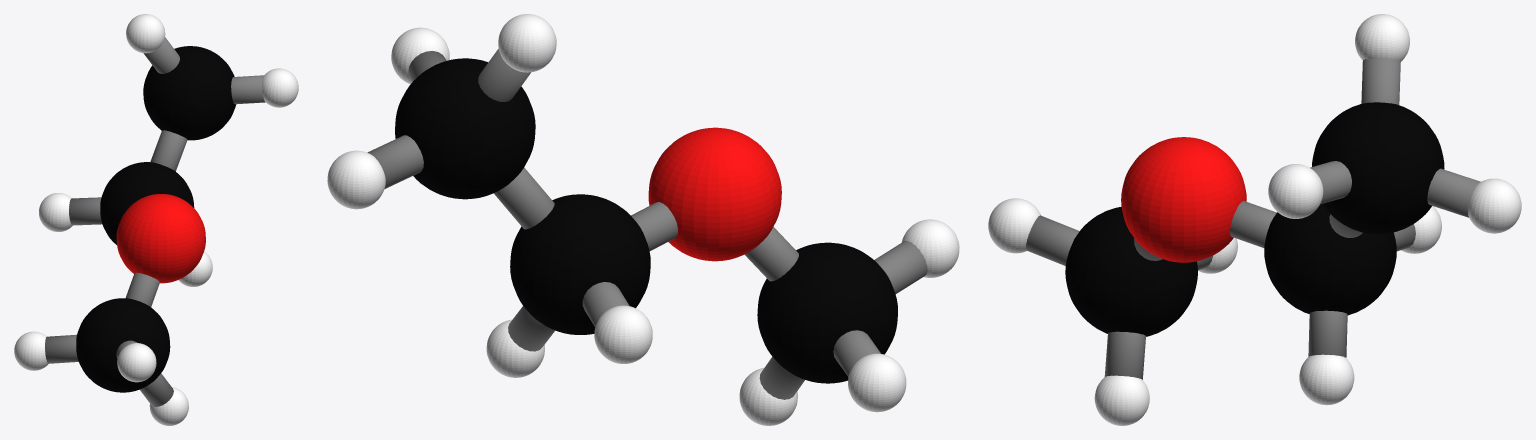
The model's file is ETILMETILETER.obj.
The picture shows the model from 3 angles, left to right: view 1: azimuth 30°, elevation 25°; view 2: azimuth 150°, elevation 25°; view 3: azimuth 270°, elevation 25°; orthographic projection. The views are drawn at different scales.
Visible parts, largest first — view 1: Carbon_ball_Sphere.001, Hydrogen_ball_Sphere, Oxygen_ball_Sphere.002, Stick_Cylinder.006_Cylinder.006, Stick_Cylinder.010_Cylinder.010, Stick_Cylinder.002_Cylinder.002, Stick_Cylinder.001_Cylinder.001, Stick_Cylinder.005_Cylinder.005, Stick_Cylinder.009_Cylinder.009, Stick_Cylinder.004_Cylinder.004; view 2: Carbon_ball_Sphere.001, Hydrogen_ball_Sphere, Oxygen_ball_Sphere.002, Stick_Cylinder.006_Cylinder.006, Stick_Cylinder_Cylinder, Stick_Cylinder.003_Cylinder.003, Stick_Cylinder.005_Cylinder.005, Stick_Cylinder.009_Cylinder.009, Stick_Cylinder.008_Cylinder.008, Stick_Cylinder.007_Cylinder.007, Stick_Cylinder.002_Cylinder.002, Stick_Cylinder.001_Cylinder.001 (+2 smaller); view 3: Carbon_ball_Sphere.001, Hydrogen_ball_Sphere, Oxygen_ball_Sphere.002, Stick_Cylinder.009_Cylinder.009, Stick_Cylinder.004_Cylinder.004, Stick_Cylinder.007_Cylinder.007, Stick_Cylinder.003_Cylinder.003, Stick_Cylinder_Cylinder, Stick_Cylinder.008_Cylinder.008, Stick_Cylinder.010_Cylinder.010.
Boxes of the visible parts, left/top/right/bottom form: Carbon_ball_Sphere.001: left=76, top=46, right=236, bottom=392; Hydrogen_ball_Sphere: left=14, top=14, right=298, bottom=425; Oxygen_ball_Sphere.002: left=116, top=194, right=205, bottom=283; Stick_Cylinder.006_Cylinder.006: left=150, top=130, right=187, bottom=171; Stick_Cylinder.010_Cylinder.010: left=231, top=75, right=265, bottom=104; Stick_Cylinder.002_Cylinder.002: left=45, top=334, right=78, bottom=363; Stick_Cylinder.001_Cylinder.001: left=69, top=197, right=101, bottom=225; Stick_Cylinder.005_Cylinder.005: left=125, top=272, right=159, bottom=306; Stick_Cylinder.009_Cylinder.009: left=143, top=37, right=179, bottom=73; Stick_Cylinder.004_Cylinder.004: left=140, top=373, right=173, bottom=406; Carbon_ball_Sphere.001: left=395, top=58, right=897, bottom=383; Hydrogen_ball_Sphere: left=327, top=14, right=959, bottom=425; Oxygen_ball_Sphere.002: left=648, top=127, right=781, bottom=261; Stick_Cylinder.006_Cylinder.006: left=494, top=167, right=554, bottom=229; Stick_Cylinder_Cylinder: left=367, top=135, right=423, bottom=188; Stick_Cylinder.003_Cylinder.003: left=874, top=241, right=927, bottom=293; Stick_Cylinder.005_Cylinder.005: left=744, top=227, right=798, bottom=281; Stick_Cylinder.009_Cylinder.009: left=478, top=49, right=530, bottom=101; Stick_Cylinder.008_Cylinder.008: left=631, top=202, right=677, bottom=250; Stick_Cylinder.007_Cylinder.007: left=508, top=306, right=555, bottom=351; Stick_Cylinder.002_Cylinder.002: left=833, top=330, right=880, bottom=376; Stick_Cylinder.001_Cylinder.001: left=582, top=282, right=629, bottom=326; Carbon_ball_Sphere.001: left=1065, top=102, right=1444, bottom=336; Hydrogen_ball_Sphere: left=988, top=14, right=1521, bottom=425; Oxygen_ball_Sphere.002: left=1121, top=137, right=1246, bottom=262; Stick_Cylinder.009_Cylinder.009: left=1361, top=58, right=1400, bottom=104; Stick_Cylinder.004_Cylinder.004: left=1104, top=331, right=1145, bottom=379; Stick_Cylinder.007_Cylinder.007: left=1308, top=310, right=1347, bottom=357; Stick_Cylinder.003_Cylinder.003: left=1025, top=215, right=1079, bottom=265; Stick_Cylinder_Cylinder: left=1427, top=168, right=1480, bottom=217; Stick_Cylinder.008_Cylinder.008: left=1230, top=201, right=1276, bottom=247; Stick_Cylinder.010_Cylinder.010: left=1310, top=161, right=1351, bottom=204.
Bounding box in the file's own units: 5.24 × 5.24 × 5.57.
